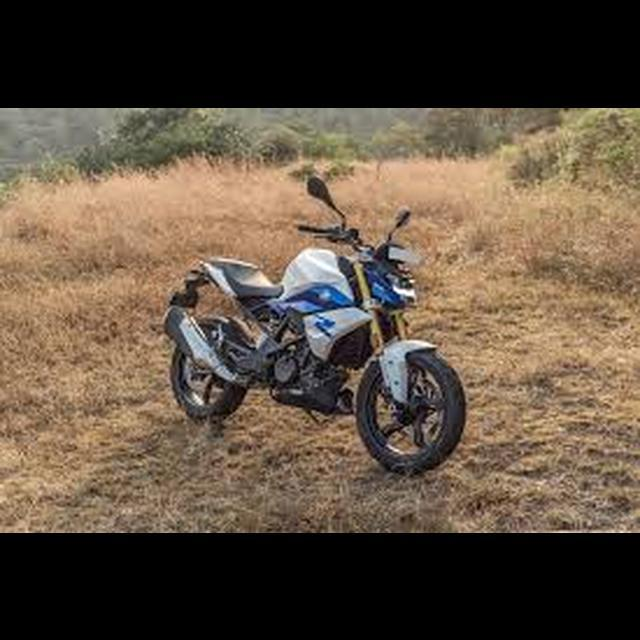motorcycle: (147, 167, 469, 480)
